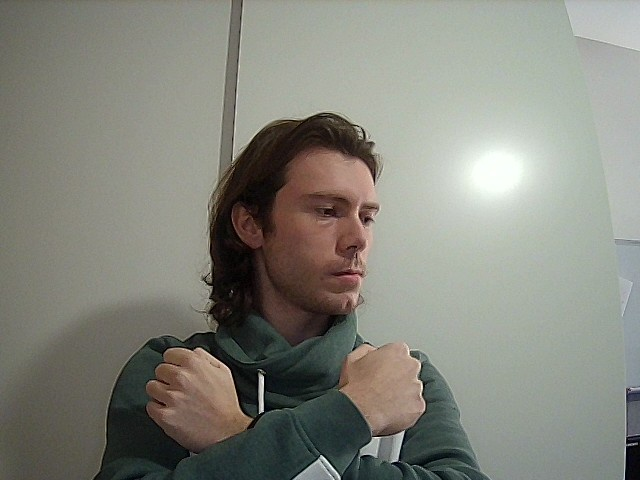del: (136, 335, 463, 480)
